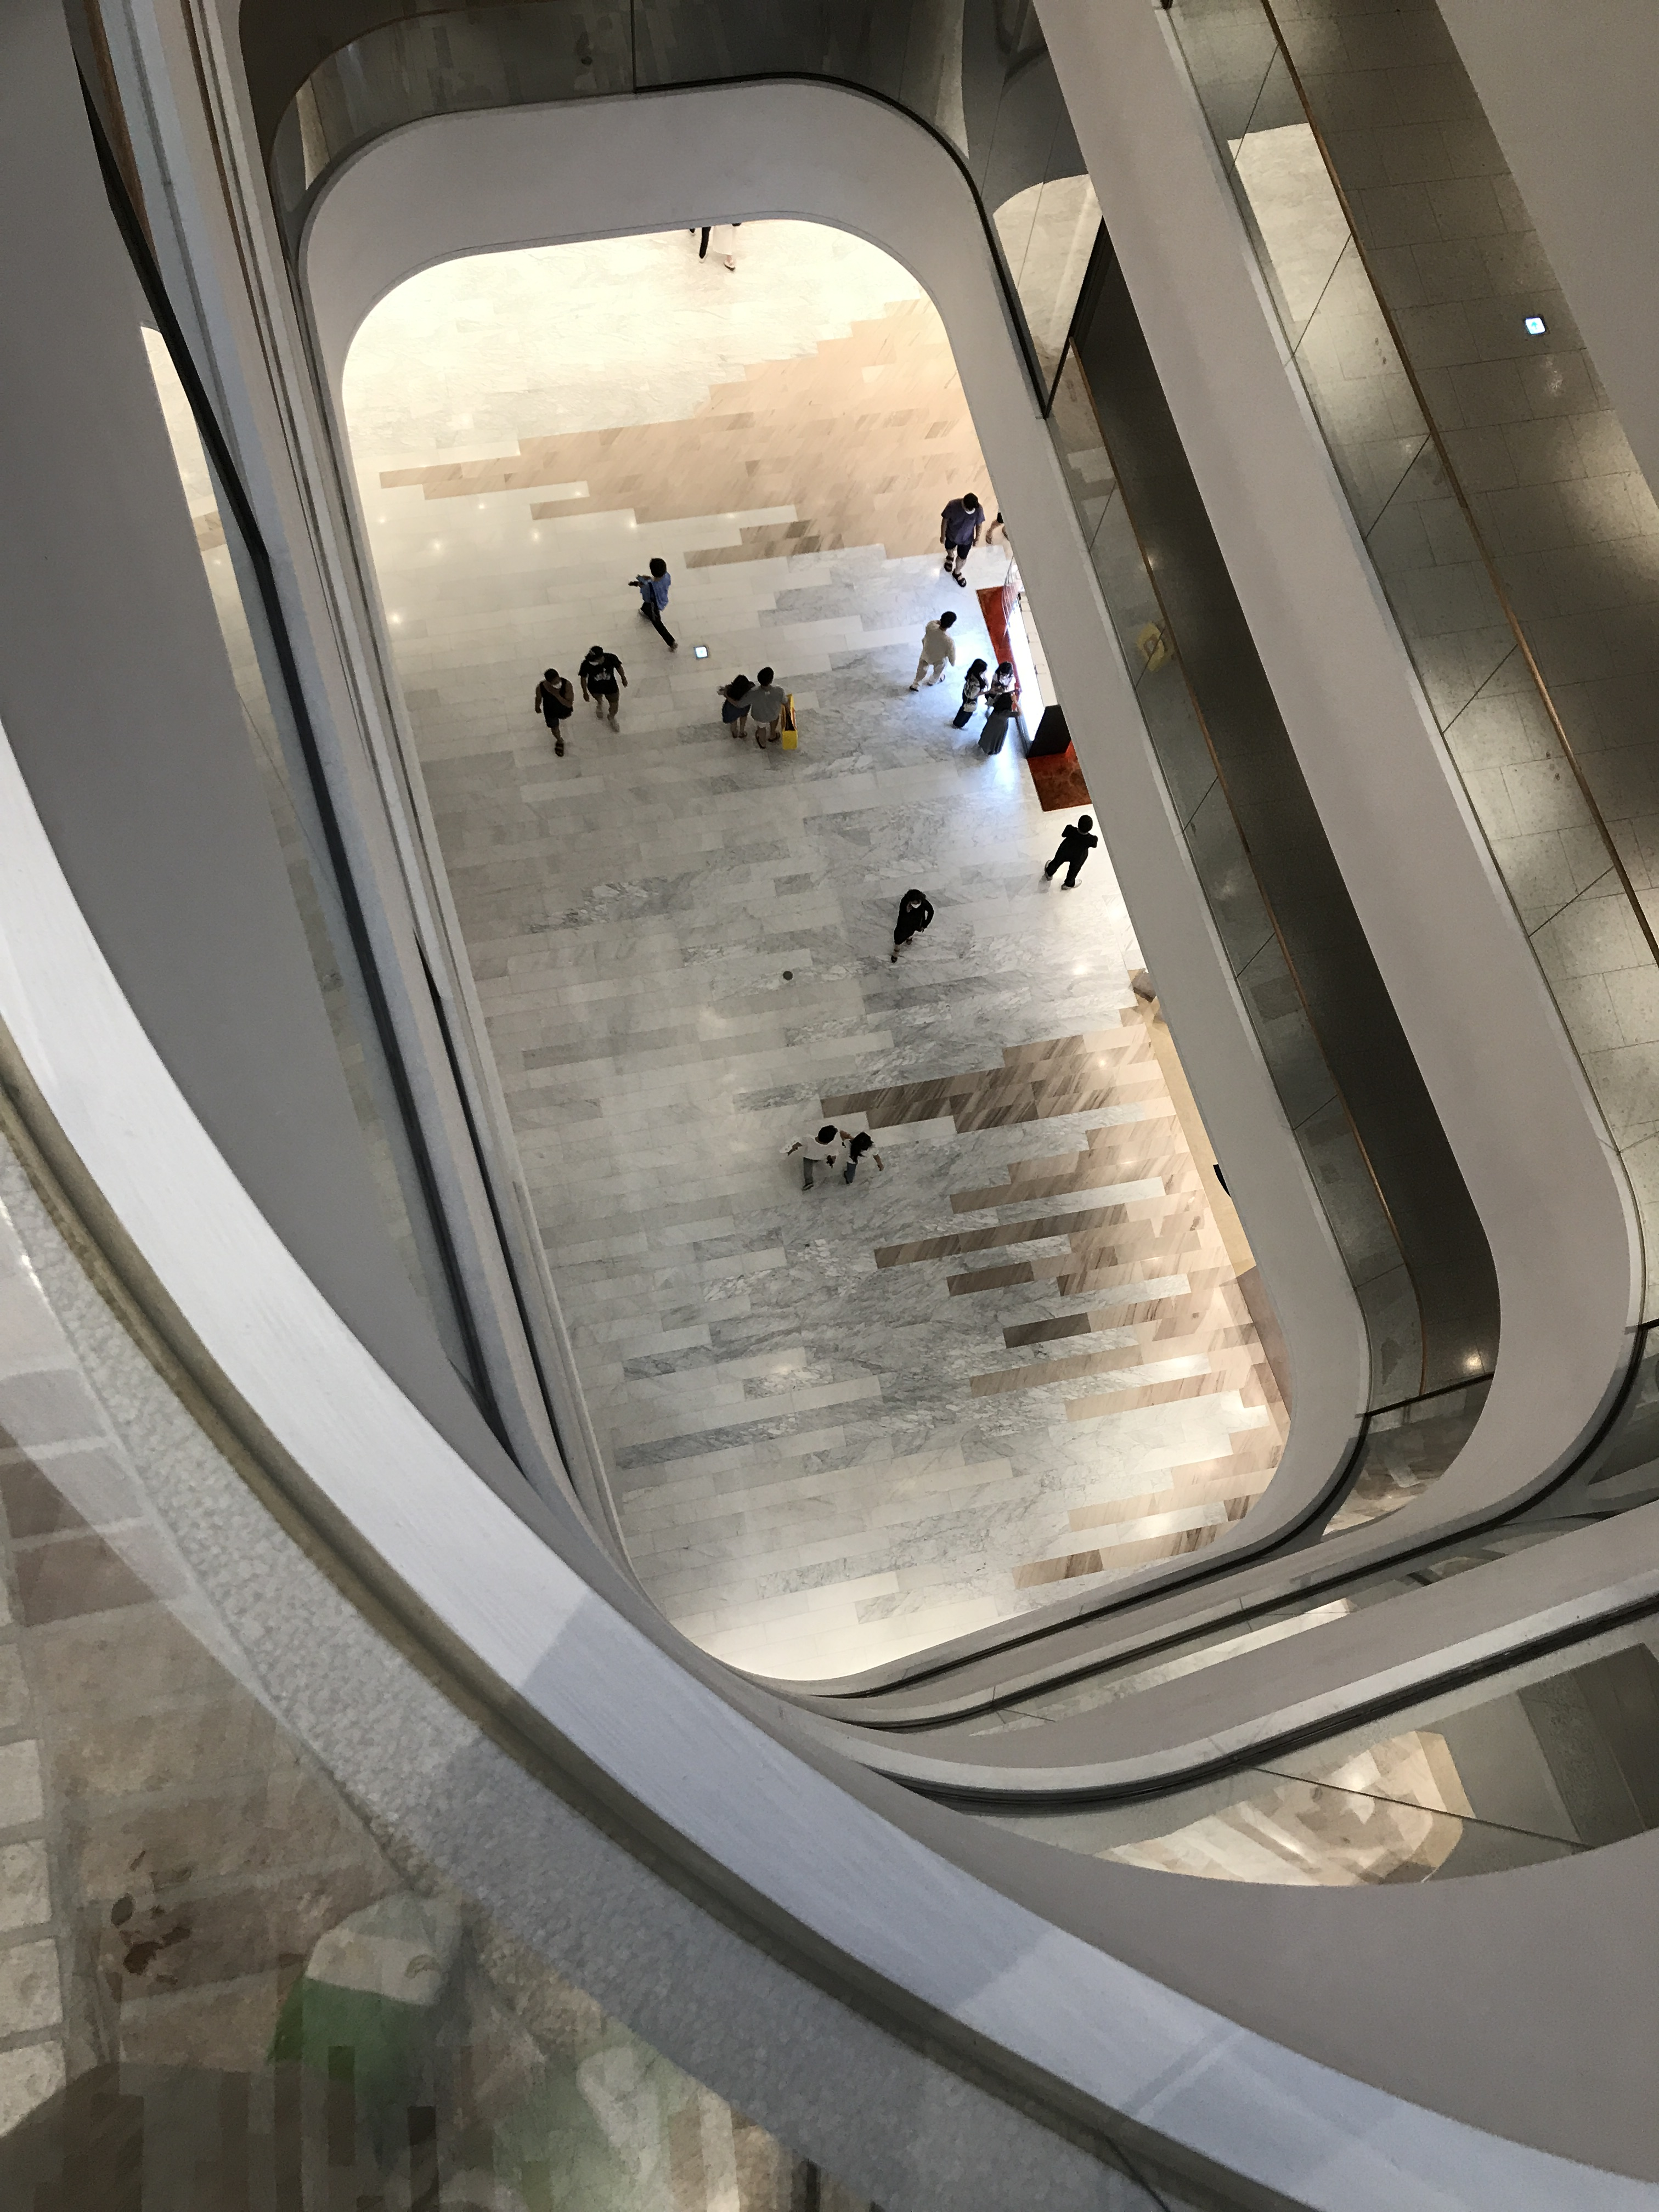person: (629, 557, 681, 652), (579, 646, 629, 731), (939, 492, 982, 590), (1045, 815, 1099, 891), (911, 611, 957, 692), (534, 668, 573, 757), (788, 1124, 838, 1192), (891, 888, 935, 964), (749, 666, 789, 747), (978, 692, 1022, 755), (953, 659, 989, 730), (715, 674, 751, 740), (840, 1132, 884, 1183), (986, 661, 1016, 719), (713, 223, 744, 275)
